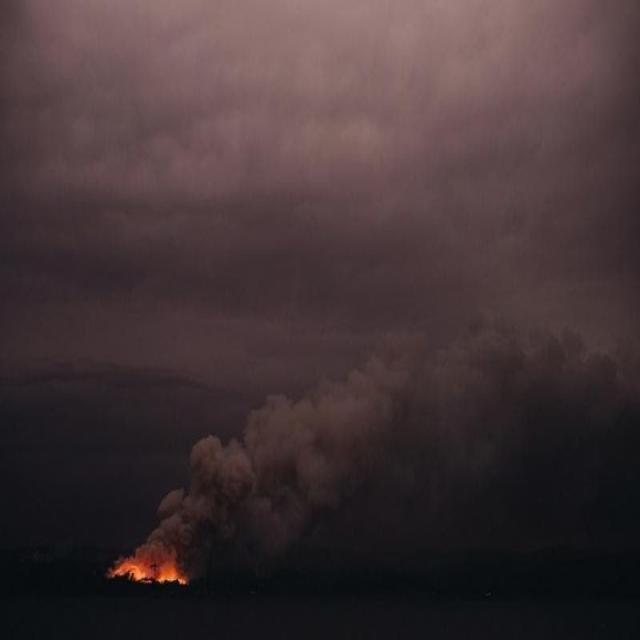Fire: (111, 560, 186, 584)
Smoke: (331, 332, 637, 472), (142, 382, 326, 554)
